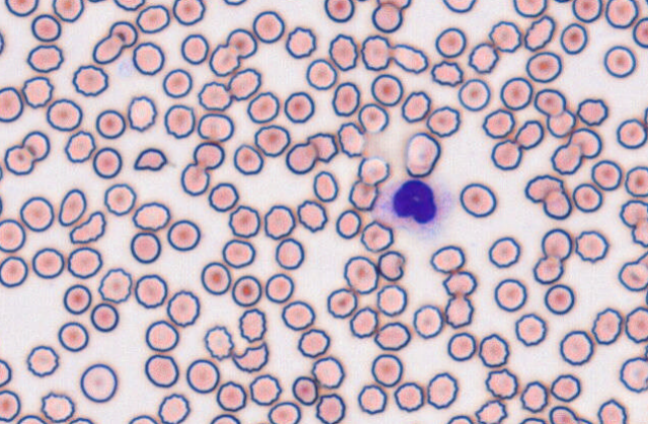GRAN: (375, 178, 456, 232)
RBC: (404, 131, 440, 177), (79, 363, 118, 403), (343, 255, 378, 294), (459, 182, 497, 217), (166, 289, 200, 327), (559, 329, 594, 365), (97, 267, 132, 303), (19, 196, 54, 232), (71, 64, 108, 97), (45, 98, 82, 131), (426, 371, 458, 409), (186, 358, 220, 393), (144, 354, 179, 388), (254, 124, 290, 157), (523, 14, 555, 51), (525, 51, 562, 83), (591, 307, 622, 345), (524, 174, 564, 203), (493, 278, 527, 312), (499, 76, 533, 110), (574, 229, 609, 262), (134, 273, 167, 308), (67, 246, 102, 279), (132, 201, 170, 231), (328, 33, 358, 71), (227, 67, 261, 100), (360, 219, 394, 252), (145, 319, 179, 352), (514, 312, 547, 346), (370, 353, 403, 387), (103, 182, 136, 216), (263, 204, 295, 239), (163, 103, 195, 138), (360, 34, 391, 70), (197, 112, 234, 142), (391, 43, 428, 73), (373, 321, 410, 351), (26, 44, 64, 73), (550, 142, 583, 175), (370, 73, 403, 106), (252, 10, 285, 43), (457, 78, 490, 111), (603, 45, 636, 78), (228, 204, 260, 238), (426, 105, 460, 137), (311, 356, 345, 388), (132, 41, 164, 75), (412, 304, 444, 338), (246, 91, 280, 123), (166, 219, 200, 251), (488, 20, 522, 52), (203, 325, 234, 360), (40, 391, 75, 422), (336, 121, 366, 157), (127, 95, 157, 131), (58, 188, 86, 226), (208, 43, 240, 76), (21, 75, 53, 108), (26, 345, 59, 377), (31, 247, 64, 279), (568, 127, 602, 158), (200, 261, 231, 295), (484, 368, 518, 399), (478, 333, 509, 367), (197, 81, 232, 111), (429, 244, 465, 273), (619, 356, 647, 393), (285, 142, 317, 174), (543, 283, 575, 315), (305, 58, 337, 90), (249, 373, 281, 405), (488, 236, 520, 268), (590, 159, 622, 191), (129, 231, 161, 263), (283, 91, 315, 123), (541, 228, 572, 261), (357, 155, 390, 186), (296, 199, 327, 232), (64, 130, 95, 163), (400, 90, 431, 123), (180, 162, 210, 196), (221, 238, 255, 268), (281, 300, 315, 330), (135, 4, 170, 33), (331, 81, 360, 116), (371, 2, 403, 33), (307, 131, 338, 163), (490, 139, 522, 170), (357, 102, 389, 133), (233, 143, 264, 175), (376, 284, 407, 316), (467, 42, 499, 73), (231, 274, 262, 306), (285, 26, 316, 58), (434, 27, 466, 58), (57, 321, 89, 352), (297, 328, 330, 358), (157, 393, 190, 423), (482, 108, 515, 138), (326, 287, 357, 318), (616, 118, 647, 149), (393, 381, 424, 412), (348, 179, 378, 211), (225, 28, 257, 58), (207, 182, 239, 212), (274, 237, 304, 269), (92, 146, 122, 178), (192, 141, 225, 170), (444, 295, 473, 328), (238, 308, 266, 342), (604, 0, 638, 28), (92, 34, 123, 64), (4, 144, 34, 175), (572, 182, 603, 212), (216, 380, 246, 411), (264, 272, 294, 303), (95, 109, 126, 139), (532, 255, 564, 284), (349, 306, 378, 338), (519, 380, 548, 412), (576, 97, 608, 126), (180, 33, 209, 65), (559, 22, 588, 54), (533, 88, 566, 116), (442, 270, 476, 297), (542, 189, 572, 219), (514, 119, 544, 149), (315, 393, 345, 423), (357, 384, 387, 414), (162, 68, 192, 98), (62, 284, 92, 314), (618, 260, 647, 291), (21, 130, 50, 161), (30, 13, 61, 42), (550, 373, 581, 402), (0, 255, 28, 287), (430, 60, 463, 87), (546, 109, 576, 138), (447, 331, 476, 361), (90, 302, 119, 332), (172, 0, 205, 26), (624, 306, 647, 343), (0, 218, 25, 252), (312, 170, 338, 202), (0, 86, 23, 122), (619, 199, 647, 228), (291, 375, 318, 405), (335, 208, 361, 239), (474, 399, 507, 423), (108, 20, 137, 47), (596, 398, 627, 423), (267, 401, 301, 423), (624, 165, 647, 197), (51, 0, 84, 22), (571, 0, 602, 23), (0, 389, 21, 422), (323, 0, 354, 22), (512, 0, 547, 18), (4, 0, 39, 17), (548, 405, 579, 423), (631, 217, 648, 247), (632, 16, 647, 48), (442, 0, 476, 13), (113, 0, 145, 11), (376, 0, 411, 10), (0, 358, 12, 387), (209, 413, 240, 423), (127, 414, 158, 423), (16, 414, 46, 423), (446, 414, 474, 423), (636, 249, 648, 268), (518, 416, 546, 423), (67, 416, 94, 423), (222, 0, 247, 6), (0, 29, 5, 55), (643, 105, 648, 130), (576, 417, 593, 423), (249, 420, 272, 424), (643, 342, 648, 360), (0, 193, 3, 217), (645, 284, 648, 307), (87, 0, 107, 3), (553, 0, 571, 3)
Schistocyte: (69, 212, 108, 243), (232, 344, 271, 372), (377, 251, 408, 282), (132, 149, 170, 172)
